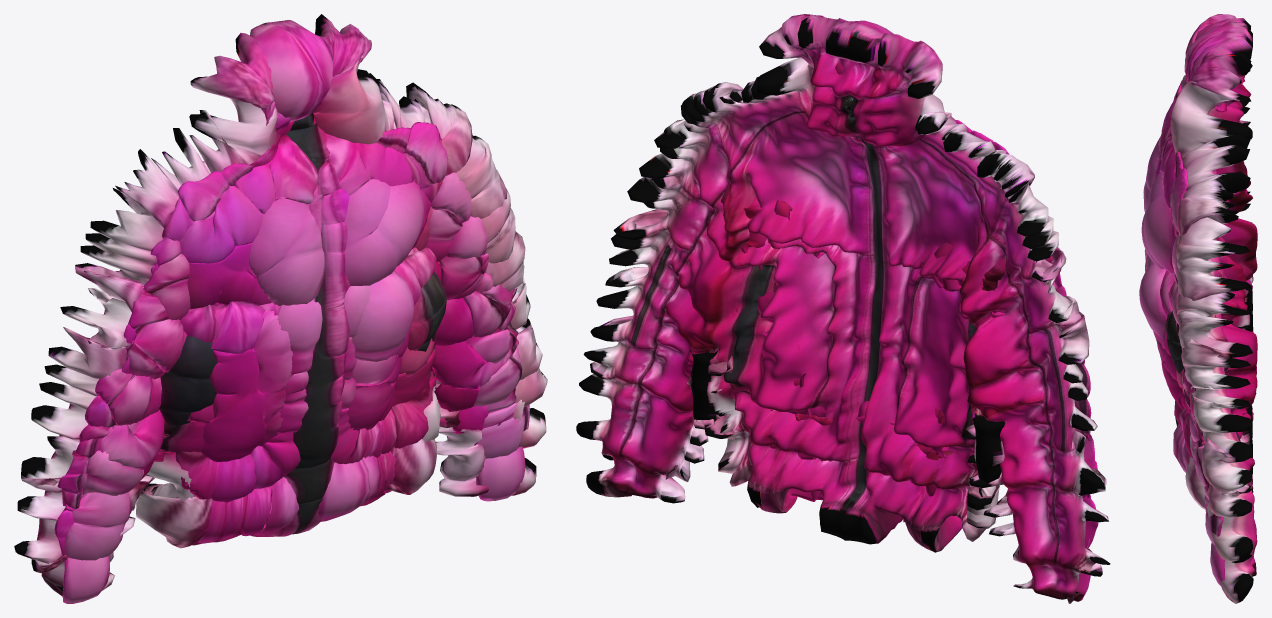
The model's file is jacket_pink.glb.
3 views of the same model, side by side, from view 1: azimuth 30°, elevation 25°; view 2: azimuth 150°, elevation 25°; view 3: azimuth 270°, elevation 25° (orthographic). The views are drawn at different scales.
Visible parts, largest first — view 1: Jacket_3D; view 2: Jacket_3D; view 3: Jacket_3D.
Boxes of the visible parts, x1=… form: Jacket_3D: x1=14, y1=14, x2=547, y2=603; Jacket_3D: x1=576, y1=14, x2=1110, y2=603; Jacket_3D: x1=1139, y1=14, x2=1257, y2=603.
Size of the model in its own units: 2.4 by 2.28 by 0.5228.
1 material, 1 textured.
